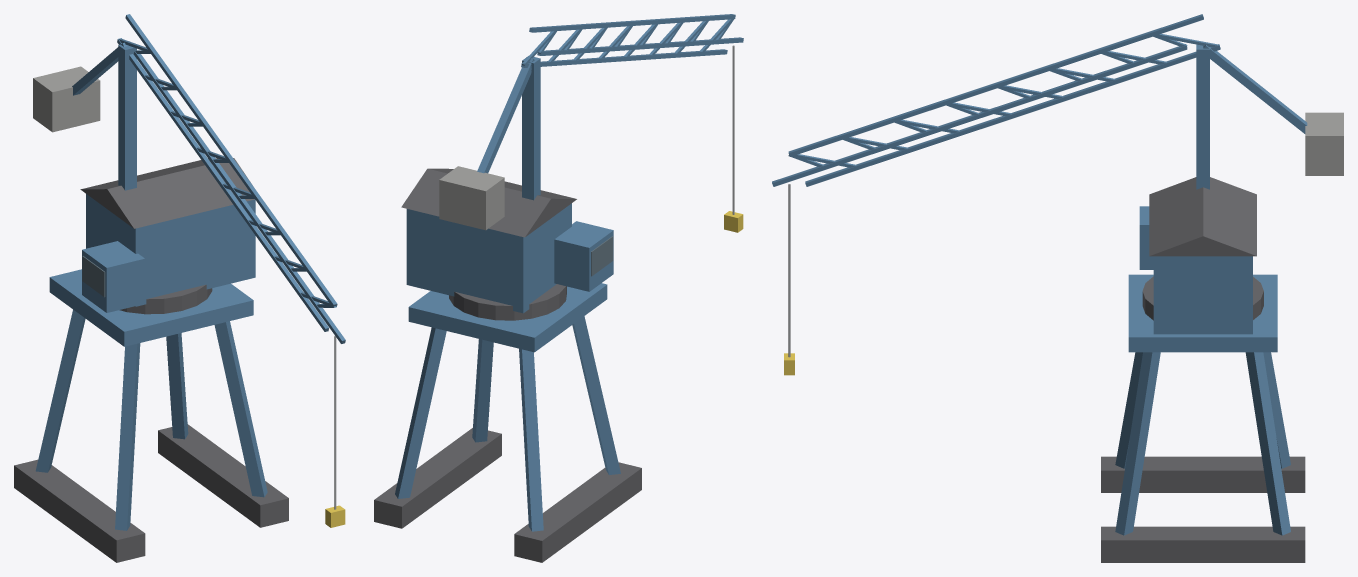
File: QuayCraneBlue.glb
3 renders of one model, left to right at view 1: azimuth 30°, elevation 25°; view 2: azimuth 150°, elevation 25°; view 3: azimuth 270°, elevation 25°, orthographic. The views are drawn at different scales.
Parts seen in each view (by area): view 1: Machine house.001, Machine house roof.001, Portal deck.001, Bogie.002, Bogie.003, Counterweight.001, Cab.001, Beam.027, Beam.025, Beam.029, Beam.026, Beam.032 (+7 smaller); view 2: Machine house.001, Portal deck.001, Bogie.002, Bogie.003, Machine house roof.001, Counterweight.001, Cab.001, Beam.028, Beam.026, Beam.029, Beam.025, Slewing ring.001 (+7 smaller); view 3: Machine house.001, Machine house roof.001, Bogie.003, Bogie.002, Portal deck.001, Beam.027, Beam.028, Beam.032, Beam.030, Beam.031, Counterweight.001, Beam.029 (+5 smaller).
Boxes of the visible parts, x1,y1,x2,y2 form: Machine house.001: [86, 194, 255, 306]; Machine house roof.001: [80, 158, 254, 228]; Portal deck.001: [49, 269, 253, 346]; Bogie.002: [14, 459, 145, 562]; Bogie.003: [158, 424, 288, 527]; Counterweight.001: [33, 66, 100, 132]; Cab.001: [82, 241, 144, 312]; Beam.027: [214, 321, 267, 497]; Beam.025: [115, 343, 140, 530]; Beam.029: [118, 44, 136, 190]; Beam.026: [35, 309, 85, 472]; Beam.032: [125, 14, 337, 307]; Machine house.001: [406, 203, 571, 313]; Portal deck.001: [408, 283, 607, 352]; Bogie.002: [514, 462, 641, 562]; Bogie.003: [374, 428, 501, 528]; Machine house roof.001: [401, 168, 576, 237]; Counterweight.001: [439, 166, 504, 230]; Cab.001: [554, 221, 613, 291]; Beam.028: [395, 327, 446, 498]; Beam.026: [519, 348, 543, 531]; Beam.029: [522, 56, 540, 200]; Beam.025: [572, 316, 620, 474]; Slewing ring.001: [449, 284, 566, 320]; Machine house.001: [1153, 256, 1252, 334]; Machine house roof.001: [1149, 177, 1256, 256]; Bogie.003: [1101, 526, 1305, 562]; Bogie.002: [1101, 456, 1305, 492]; Portal deck.001: [1128, 274, 1277, 352]; Beam.027: [1115, 352, 1160, 535]; Beam.028: [1245, 352, 1290, 535]; Beam.032: [788, 14, 1203, 156]; Beam.030: [772, 44, 1187, 186]; Beam.031: [805, 44, 1220, 186]; Counterweight.001: [1305, 112, 1343, 175]; Beam.029: [1196, 44, 1209, 189].
Bounding box in the file's own units: 7.2 × 19.82 × 20.73.
